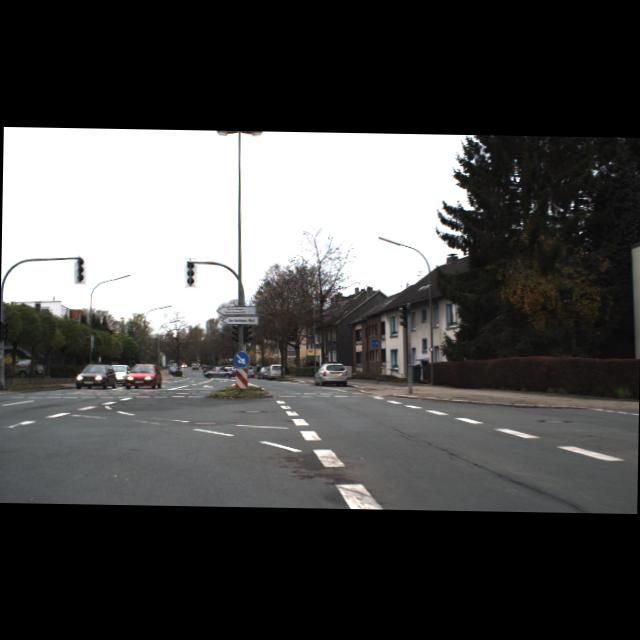mandatory: (232, 351, 248, 368)
